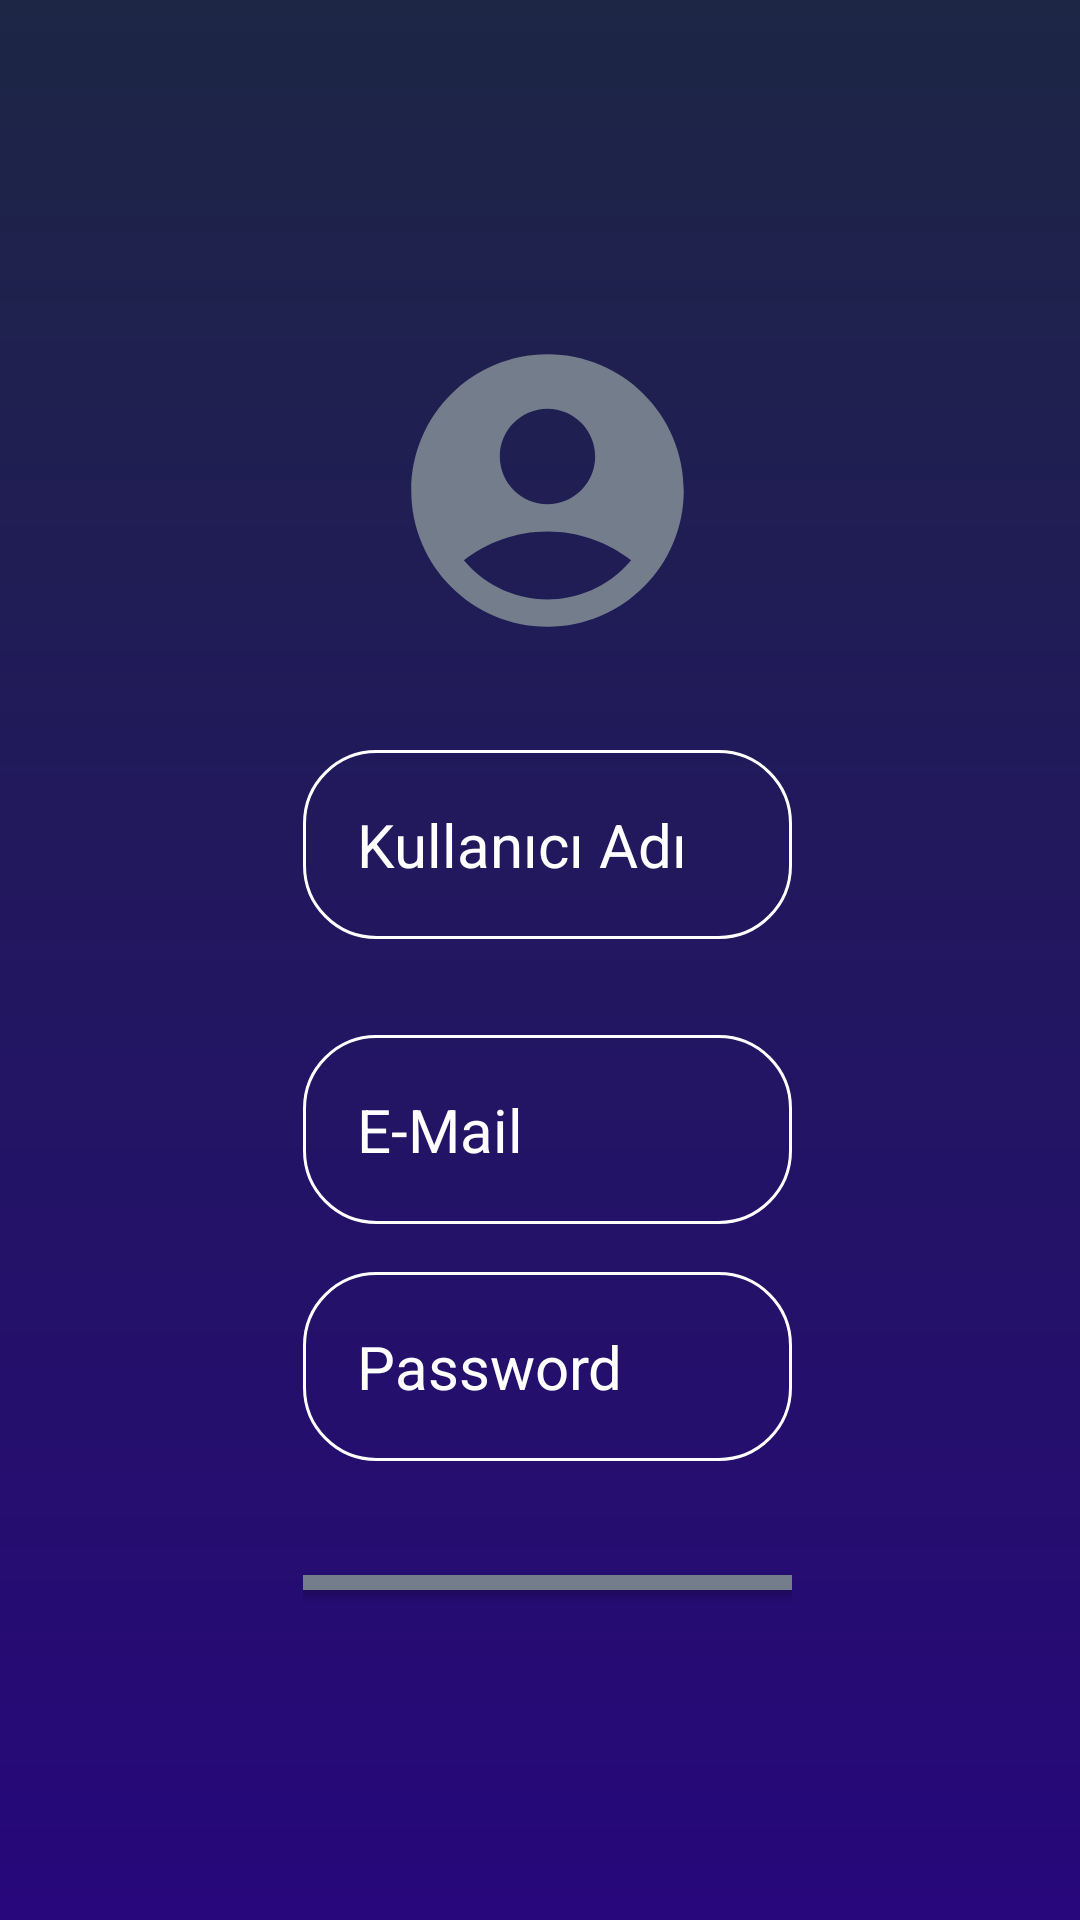

Screen size 1080 × 1920. Icon name, then its box in pixels as (x1, y1, x2, y2):
account: (411, 354, 684, 627)
